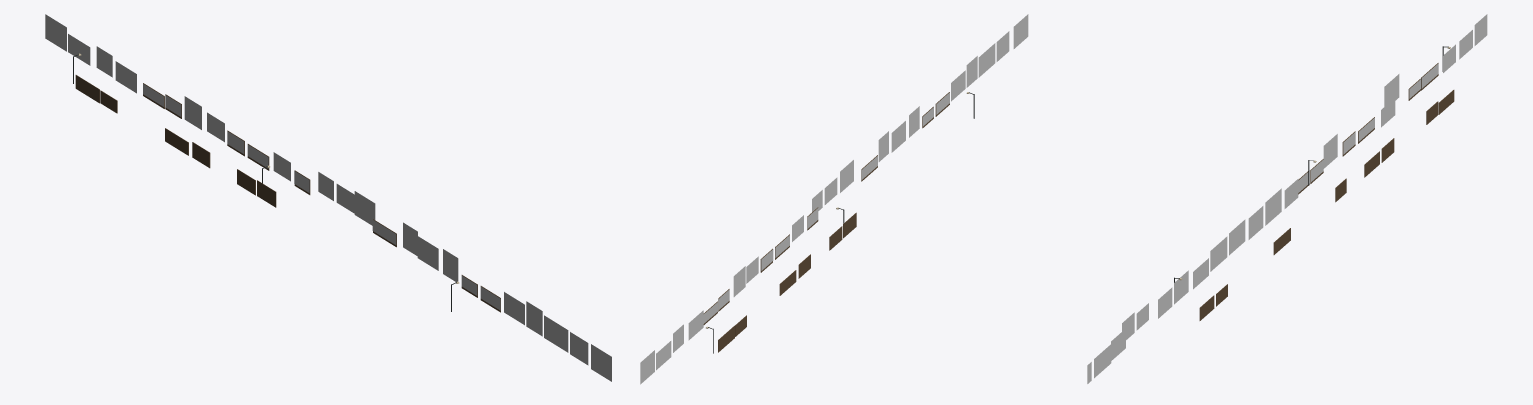
Rendered from balmy_lod1.glb.
The picture shows the model from 3 angles, left to right: view 1: azimuth 30°, elevation 25°; view 2: azimuth 150°, elevation 25°; view 3: azimuth 330°, elevation 25°; orthographic projection. The views are drawn at different scales.
Parts seen in each view (by area): view 1: L1_mural, L1_wood; view 2: L1_mural, L1_wood; view 3: L1_mural, L1_wood.
Boxes of the visible parts, x1,y1,x2,y2 form: L1_mural: (45,14,611,381); L1_wood: (75,75,500,312); L1_mural: (640,14,1028,384); L1_wood: (703,92,949,352); L1_mural: (1087,14,1487,383); L1_wood: (1199,63,1454,320).
Size of the model in its own units: 17.27 by 5.85 by 149.
